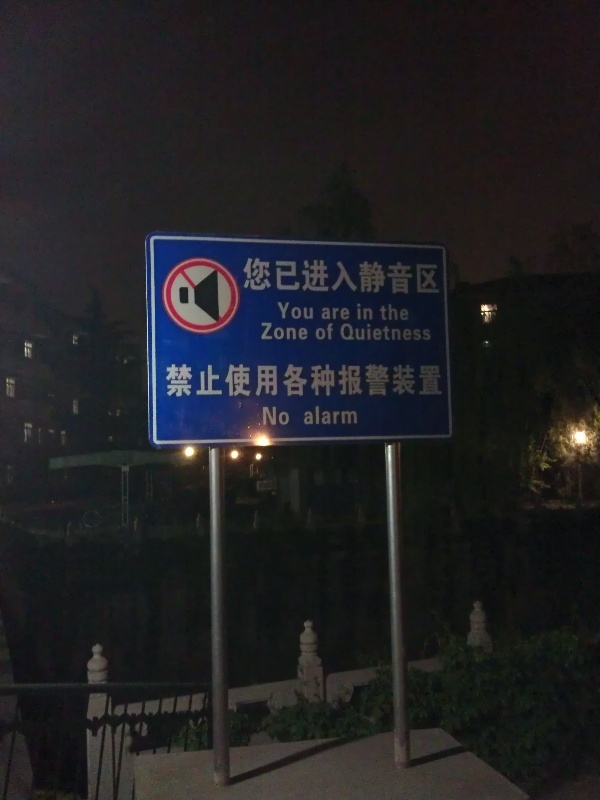text: (257, 257, 272, 296), (273, 257, 288, 296), (289, 257, 304, 296), (305, 257, 320, 296), (321, 257, 336, 296), (337, 257, 352, 296), (353, 257, 368, 296), (369, 257, 384, 296), (385, 257, 400, 296), (401, 257, 416, 296), (417, 257, 432, 296), (177, 363, 192, 398), (193, 363, 208, 398), (209, 363, 224, 398), (225, 363, 240, 398), (241, 363, 256, 398), (257, 363, 272, 398), (273, 363, 288, 398), (289, 363, 304, 398), (305, 363, 320, 398), (321, 363, 336, 398), (337, 363, 352, 398), (353, 363, 368, 398), (369, 363, 384, 398), (385, 363, 400, 398), (401, 363, 416, 398), (417, 363, 432, 398), (243, 257, 256, 296), (165, 363, 176, 398), (433, 257, 442, 296), (433, 363, 443, 398), (273, 406, 288, 427), (289, 301, 304, 321), (305, 406, 320, 426), (321, 406, 336, 426), (337, 406, 352, 426), (273, 322, 288, 342), (289, 322, 304, 342), (353, 324, 368, 343), (369, 324, 384, 343), (385, 324, 400, 343), (401, 324, 416, 343), (417, 324, 432, 343), (385, 304, 400, 322), (260, 406, 272, 427), (260, 322, 272, 342), (321, 324, 335, 341), (340, 324, 352, 343), (321, 307, 336, 322), (337, 307, 351, 322), (278, 301, 288, 321), (305, 301, 315, 321), (401, 304, 411, 322), (357, 305, 368, 321), (353, 406, 359, 426), (305, 322, 310, 342), (369, 305, 375, 321), (315, 324, 320, 341), (380, 304, 384, 322), (289, 406, 291, 427), (433, 324, 434, 343)
